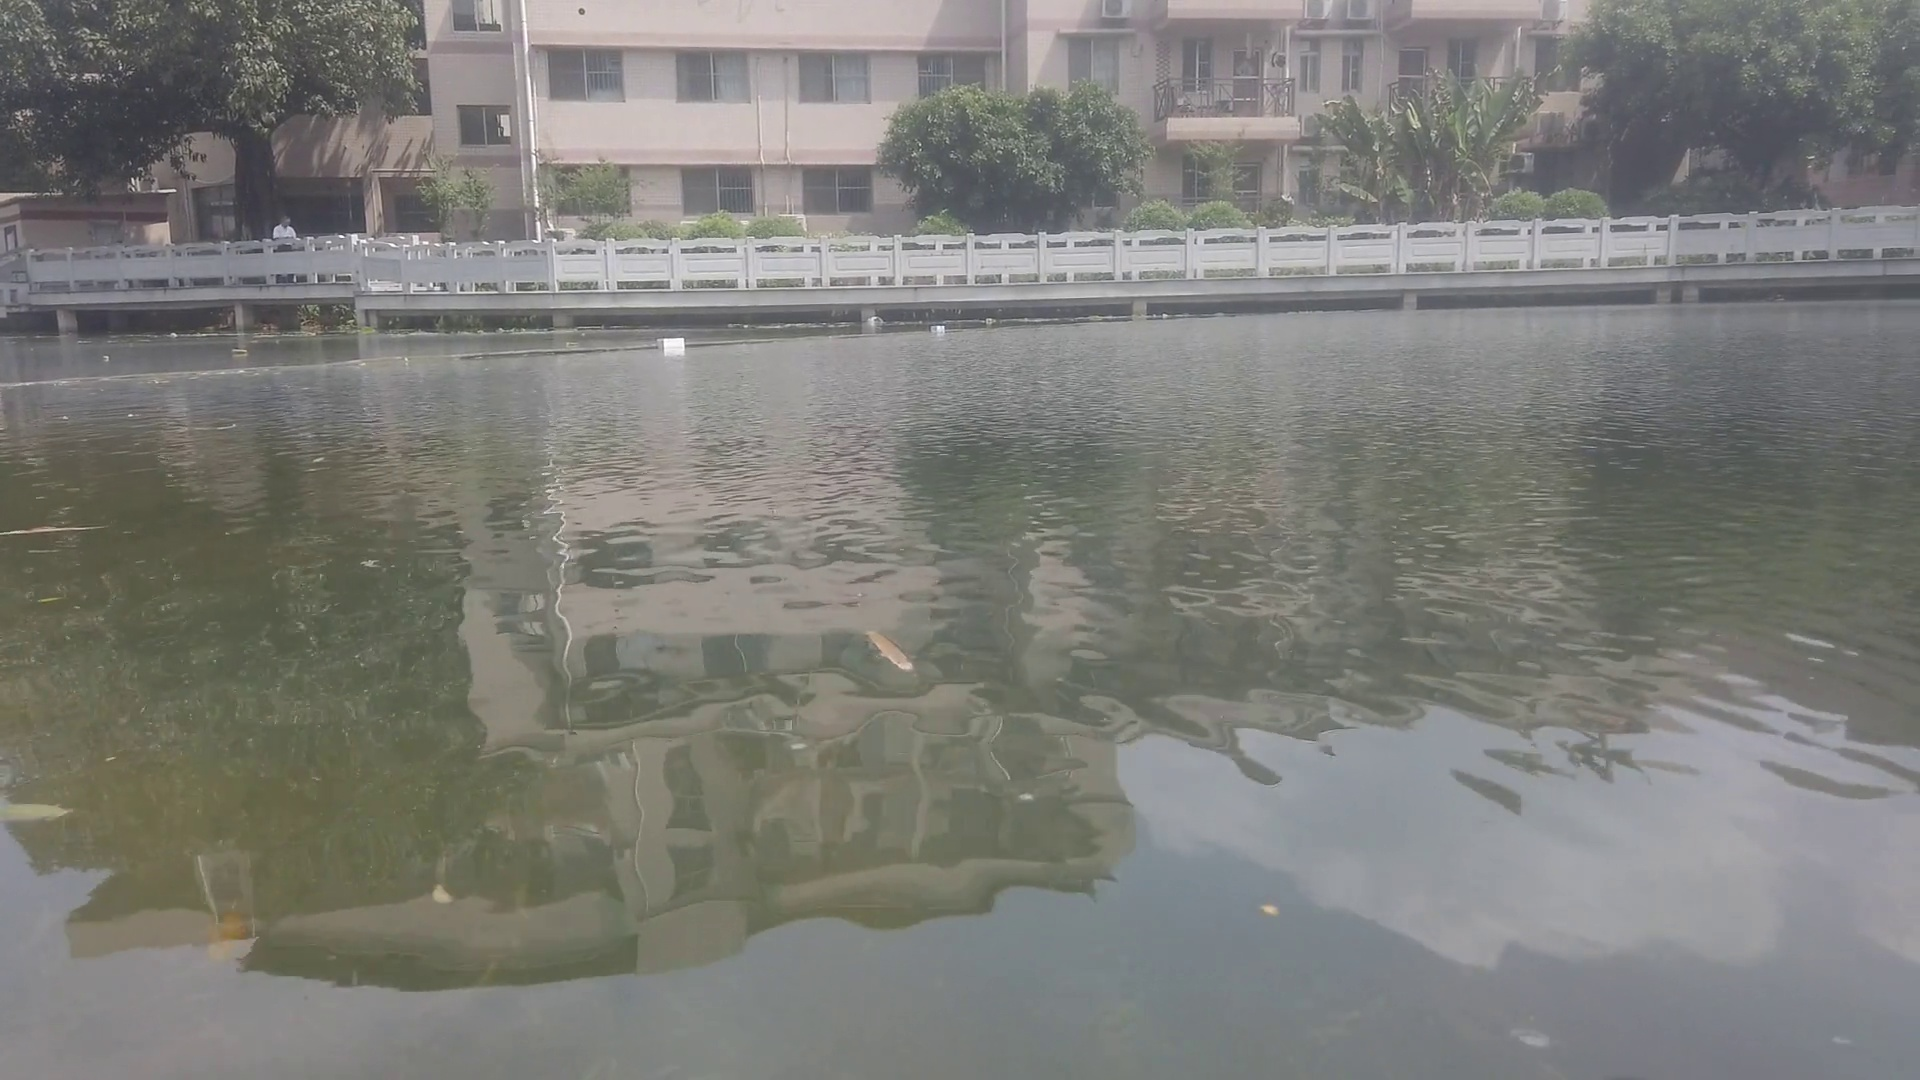carton: (655, 335, 691, 353), (928, 323, 945, 332)
